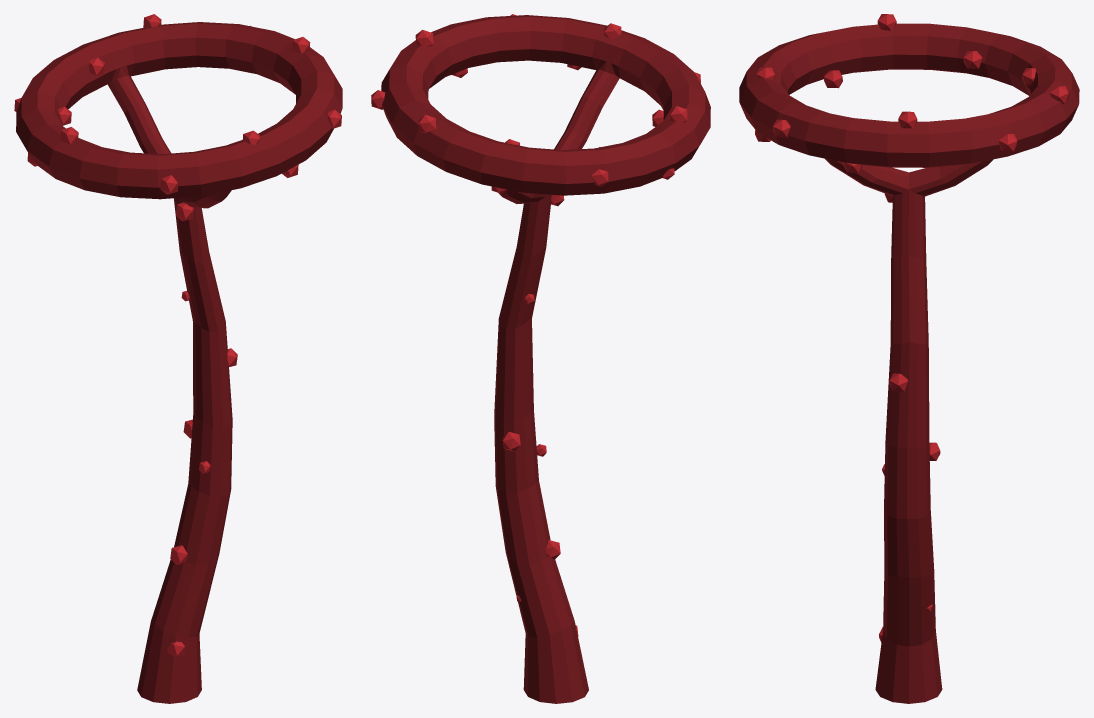
Rendered from DonutMushroom.fbx.
3 renders of one model, left to right at view 1: azimuth 30°, elevation 25°; view 2: azimuth 150°, elevation 25°; view 3: azimuth 270°, elevation 25°, orthographic. The views are drawn at different scales.
Parts seen in each view (by area): view 1: Mdonut; view 2: Mdonut; view 3: Mdonut.
Part boxes in pixels (box(x1,y1,x2,y2)): Mdonut: box(14, 14, 342, 703); Mdonut: box(371, 14, 710, 703); Mdonut: box(739, 14, 1079, 703).
Size of the model in its own units: 543 by 1141 by 545.
